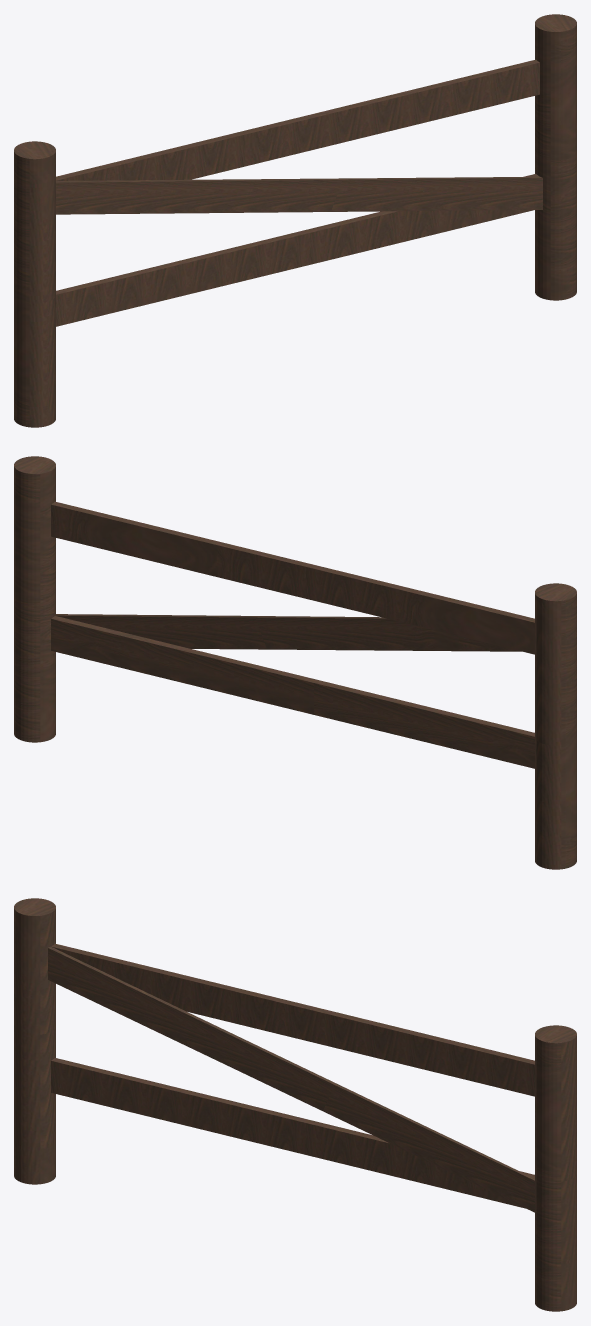
Rendered from wood_barrier.fbx.
3 renders of one model, top to bottom at view 1: azimuth 30°, elevation 25°; view 2: azimuth 150°, elevation 25°; view 3: azimuth 330°, elevation 25°, orthographic.
Visible parts, largest first — view 1: Cube; view 2: Cube; view 3: Cube.
Part boxes in pixels (bbox=[...]): Cube: bbox=[14, 14, 576, 427]; Cube: bbox=[14, 456, 576, 869]; Cube: bbox=[14, 898, 576, 1311].
Size of the model in its own units: 14.18 by 6.53 by 0.9288.
1 material, 1 textured.
